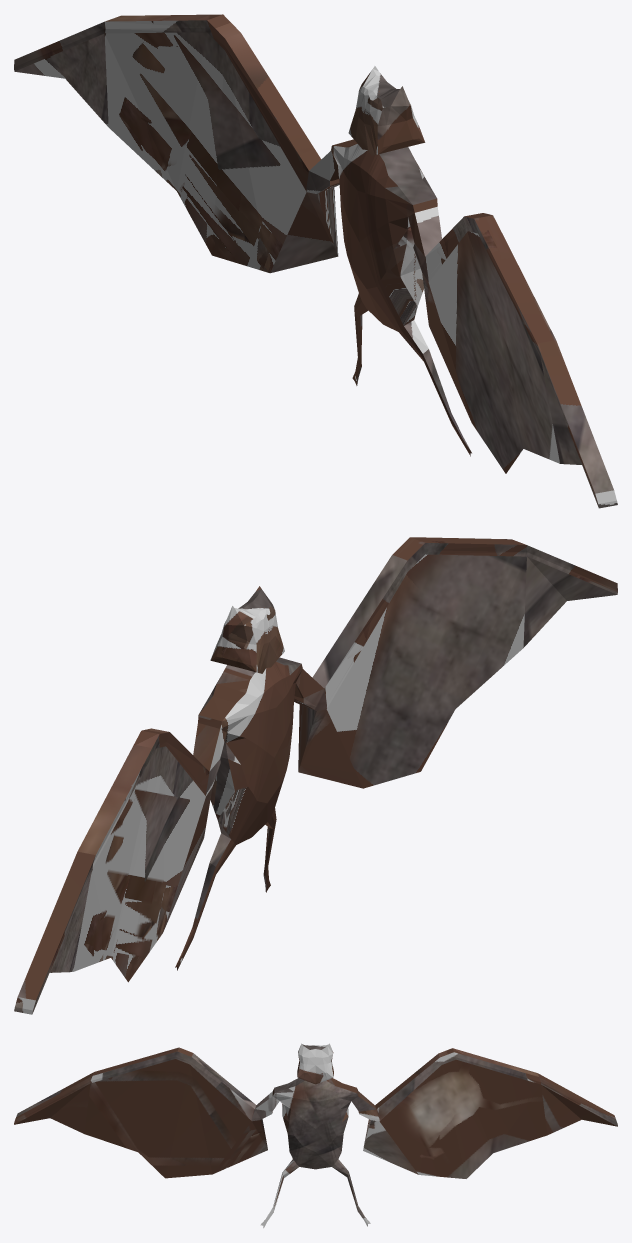
File: Enemigo13.obj
The picture shows the model from 3 angles, top to bottom: view 1: azimuth 30°, elevation 25°; view 2: azimuth 150°, elevation 25°; view 3: azimuth 270°, elevation 25°; orthographic projection. The views are drawn at different scales.
Visible parts, largest first — view 1: Plano; view 2: Plano; view 3: Plano.
Part boxes in pixels (box(x1,y1,x2,y2)): Plano: box(14, 14, 617, 508); Plano: box(14, 537, 617, 1014); Plano: box(14, 1043, 617, 1227).
Bounding box in the file's own units: 0.2664 × 0.7585 × 2.32.
Materials: 1 (1 with a texture image).
